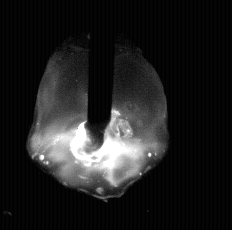arame: (88, 0, 112, 152)
poca: (27, 0, 168, 230)
